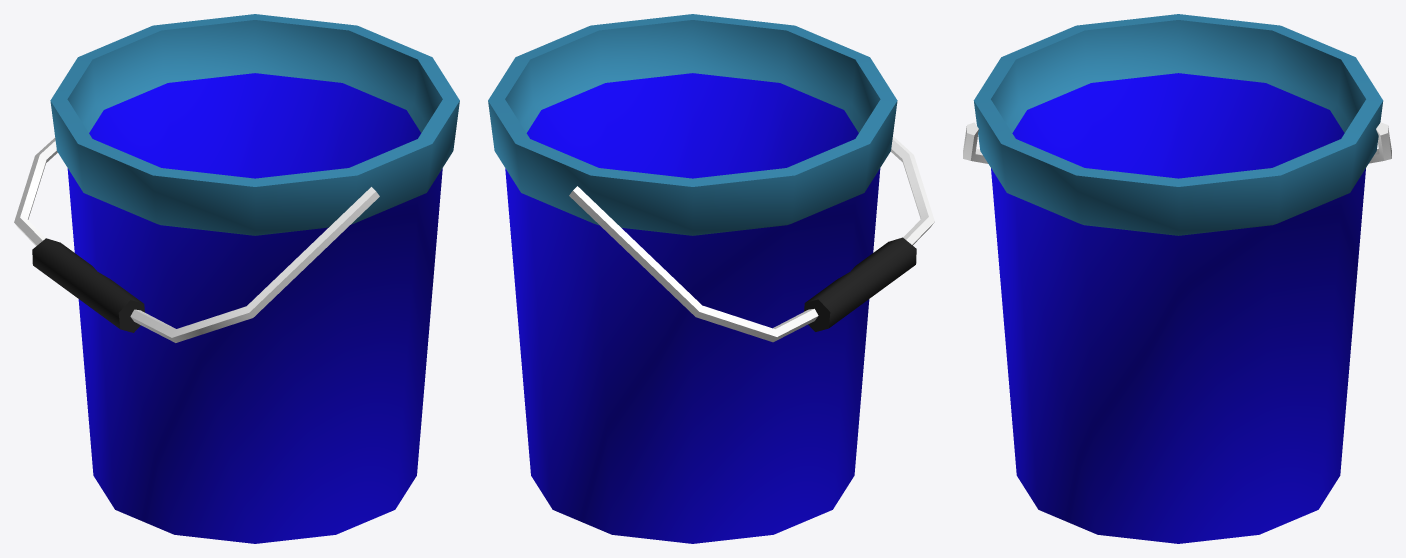
Rendered from Bucket.obj.
3 renders of one model, left to right at view 1: azimuth 30°, elevation 25°; view 2: azimuth 150°, elevation 25°; view 3: azimuth 270°, elevation 25°, orthographic.
Parts seen in each view (by area): view 1: Bucket; view 2: Bucket; view 3: Bucket.
Boxes of the visible parts, x1,y1,x2,y2 form: Bucket: [14, 14, 459, 543]; Bucket: [488, 14, 934, 543]; Bucket: [963, 14, 1391, 543].
Size of the model in its own units: 0.3504 by 0.3571 by 0.364.
